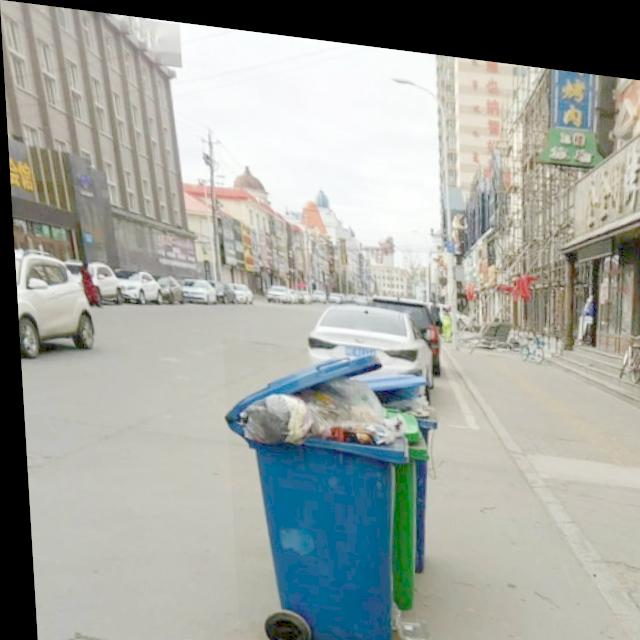overflow: (218, 332, 411, 640)
